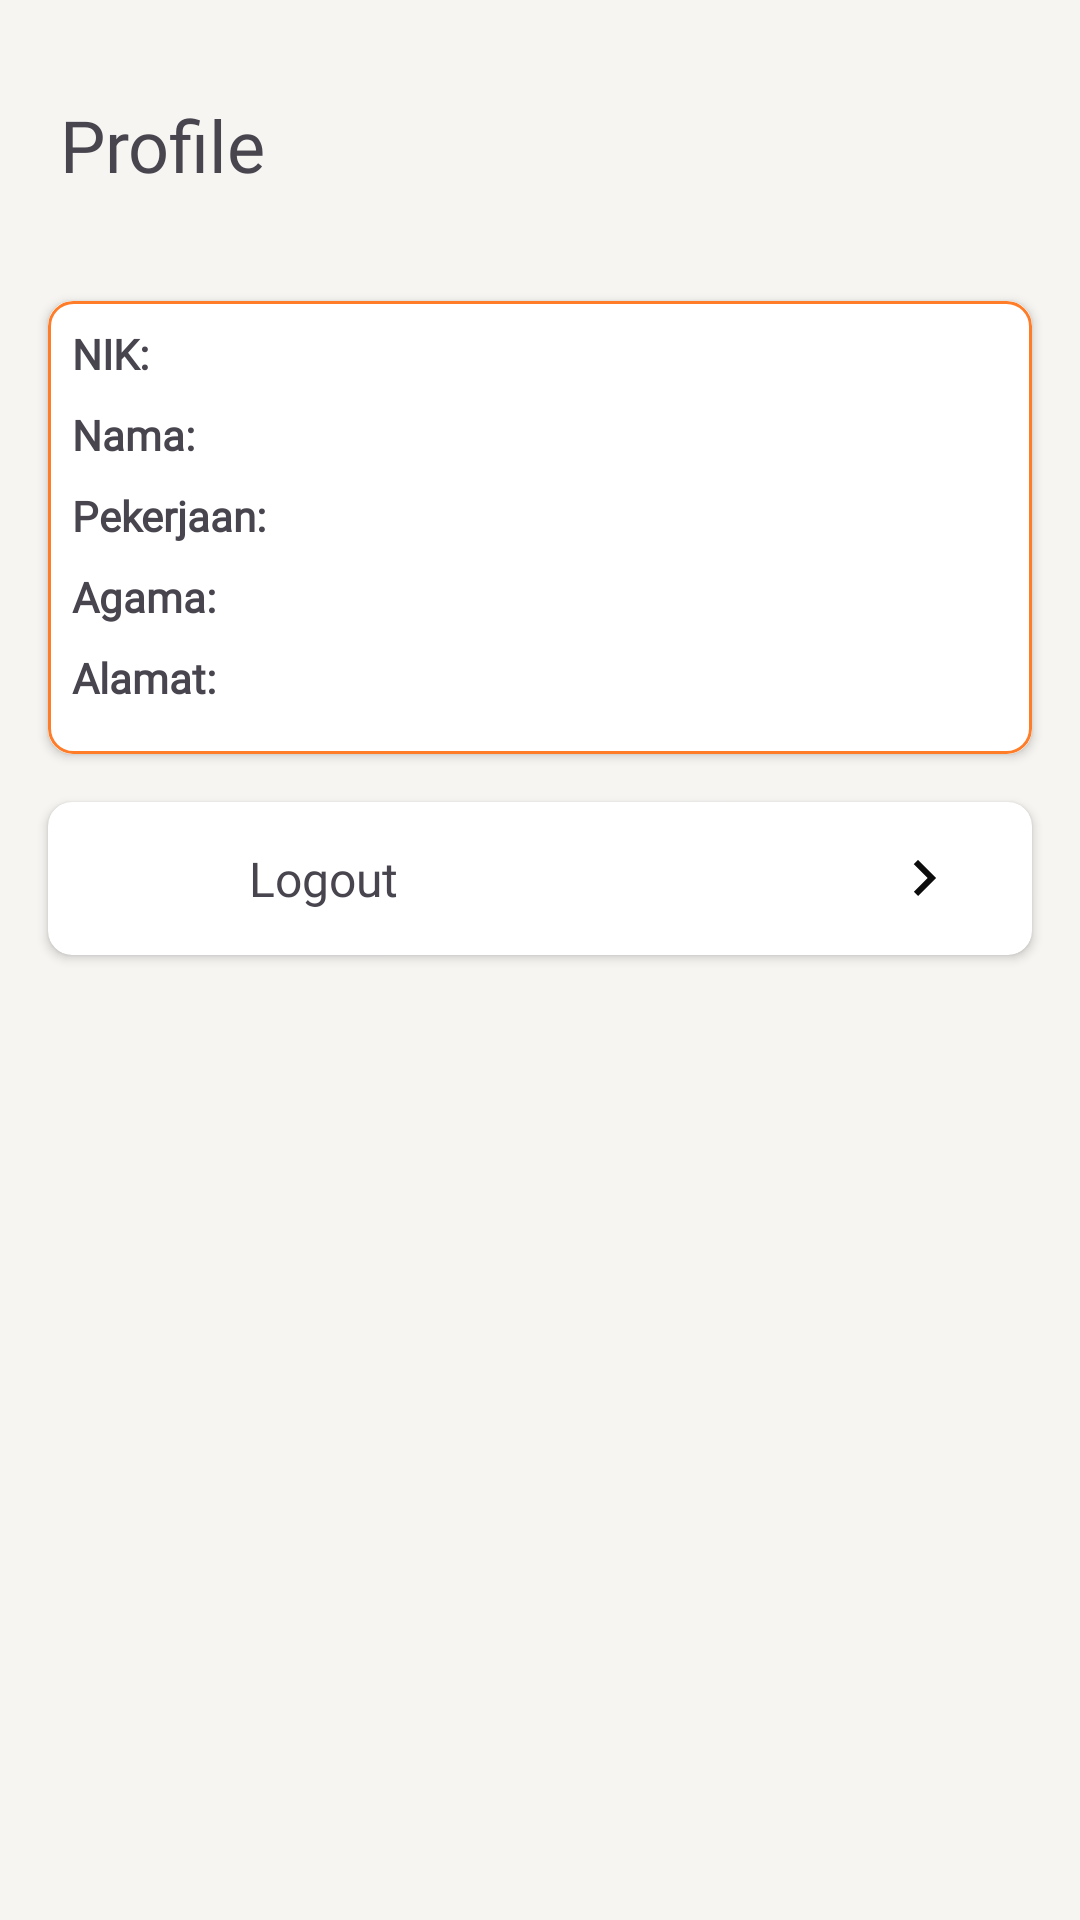

Named icons in this screenshot (1080x1920) and their centers, point (x, y):
arrow: point (925, 878)
